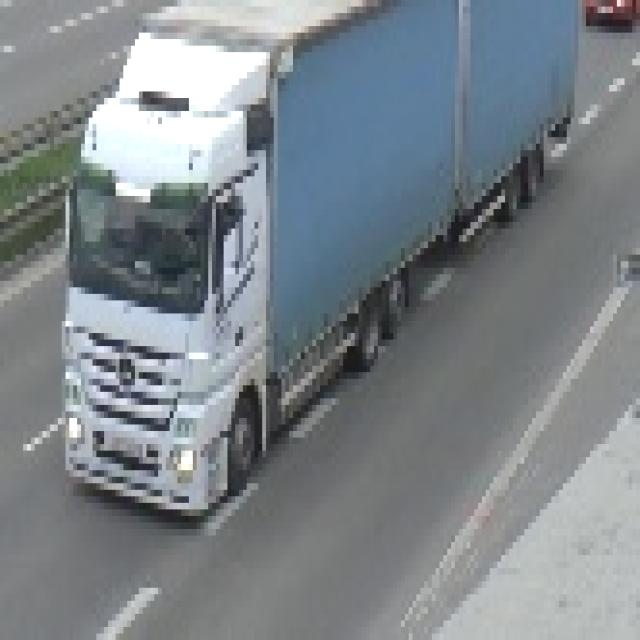TRUCK: (65, 0, 579, 509)
